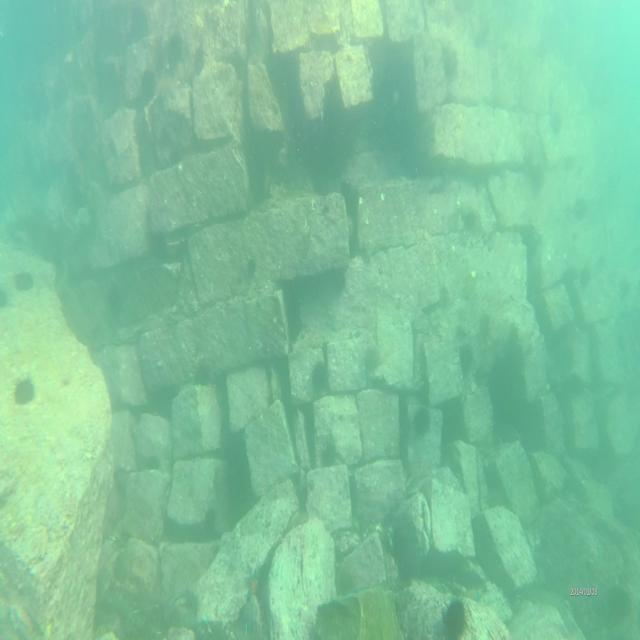echinus: (439, 593, 474, 640), (139, 68, 160, 108), (164, 28, 184, 68), (14, 371, 36, 407), (311, 358, 330, 397), (111, 464, 133, 496), (412, 403, 431, 440), (464, 201, 484, 236), (528, 156, 546, 193), (442, 48, 460, 85), (458, 340, 476, 376), (573, 188, 590, 226), (106, 276, 125, 310), (566, 371, 586, 403), (335, 176, 355, 208), (364, 344, 383, 377), (192, 363, 210, 396), (14, 266, 36, 293), (549, 106, 566, 140), (616, 269, 633, 301), (190, 44, 205, 80), (322, 438, 337, 470), (202, 504, 216, 538), (577, 263, 592, 294), (144, 452, 162, 473), (246, 259, 259, 281), (0, 282, 9, 312)
